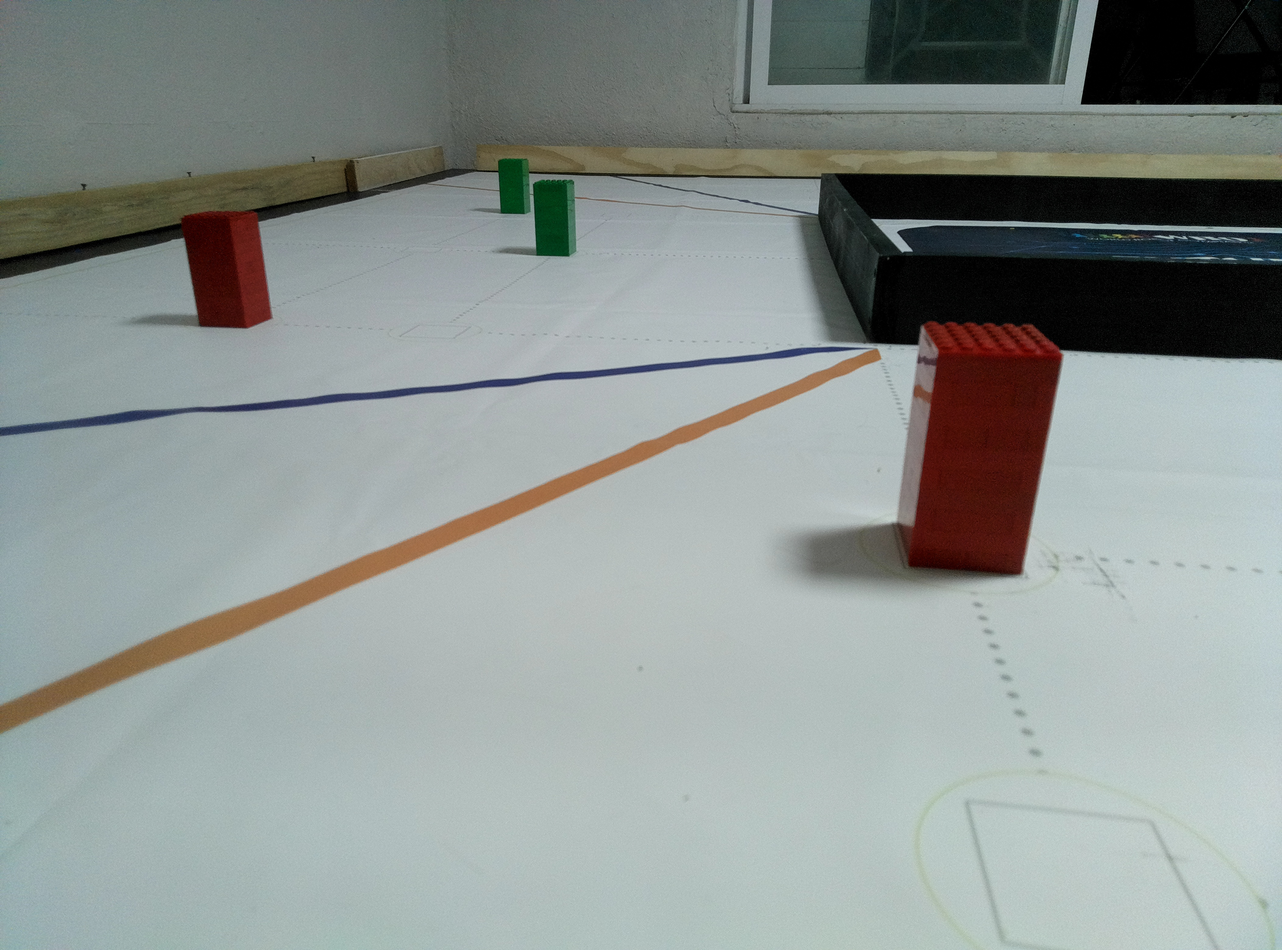greenbox: (532, 179, 577, 257), (498, 158, 531, 214)
redbox: (894, 318, 1063, 575), (180, 210, 275, 329)
